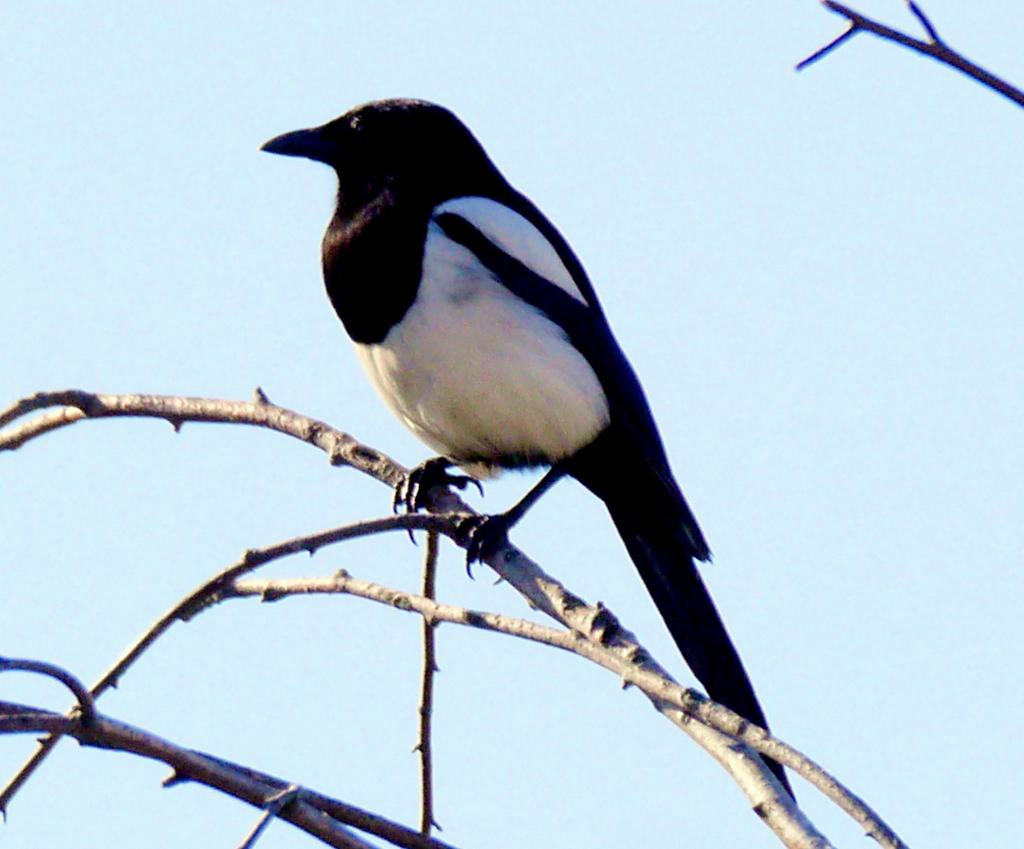PicaPica: (259, 96, 796, 804)
